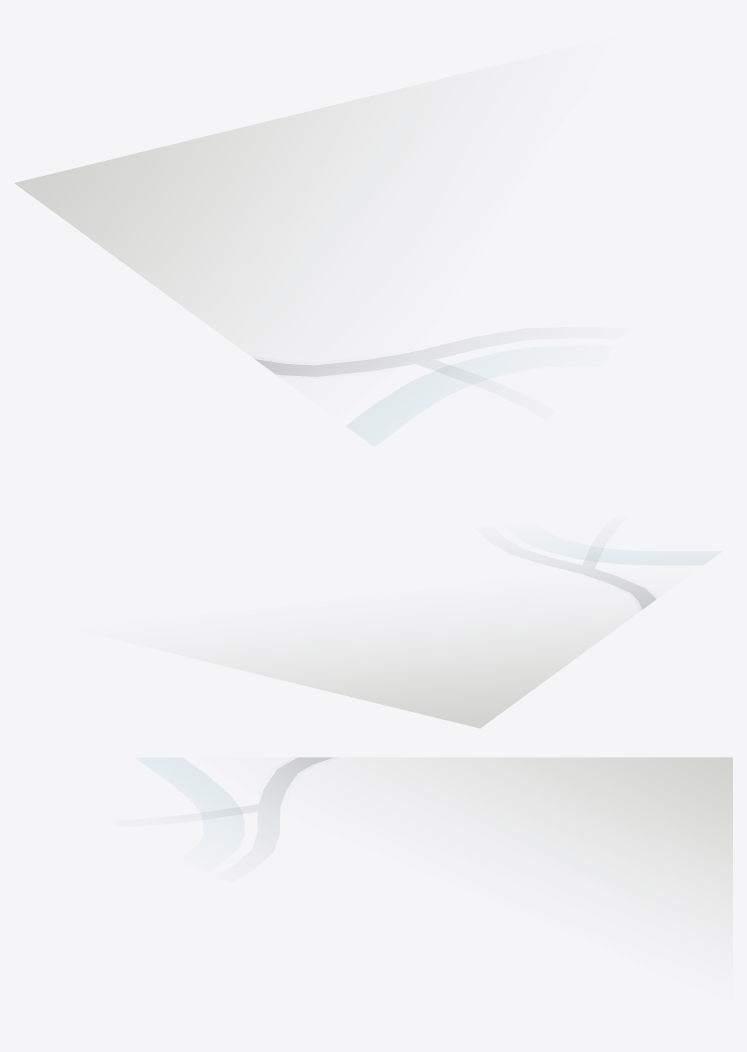
The picture shows the model from 3 angles, top to bottom: view 1: azimuth 30°, elevation 25°; view 2: azimuth 150°, elevation 25°; view 3: azimuth 270°, elevation 25°; orthographic projection. The views are drawn at different scales.
Visible parts, largest first — view 1: city; view 2: city; view 3: city.
Part boxes in pixels (bbox=[...]): city: bbox=[14, 71, 487, 434]; city: bbox=[170, 546, 710, 728]; city: bbox=[162, 757, 732, 944].
Size of the model in its own units: 384 by 0.4 by 416.
